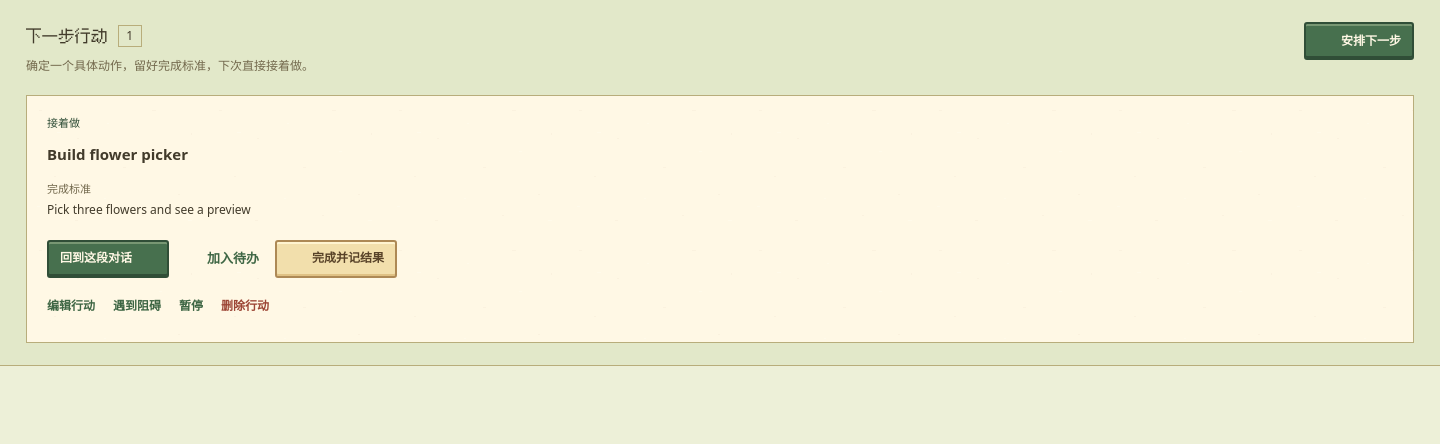
project next actions › adds one linked task, re-reads its ID and routes directly to it
Click the button "加入待办": click(222, 258) top-left (185, 240), bottom-right (259, 277)
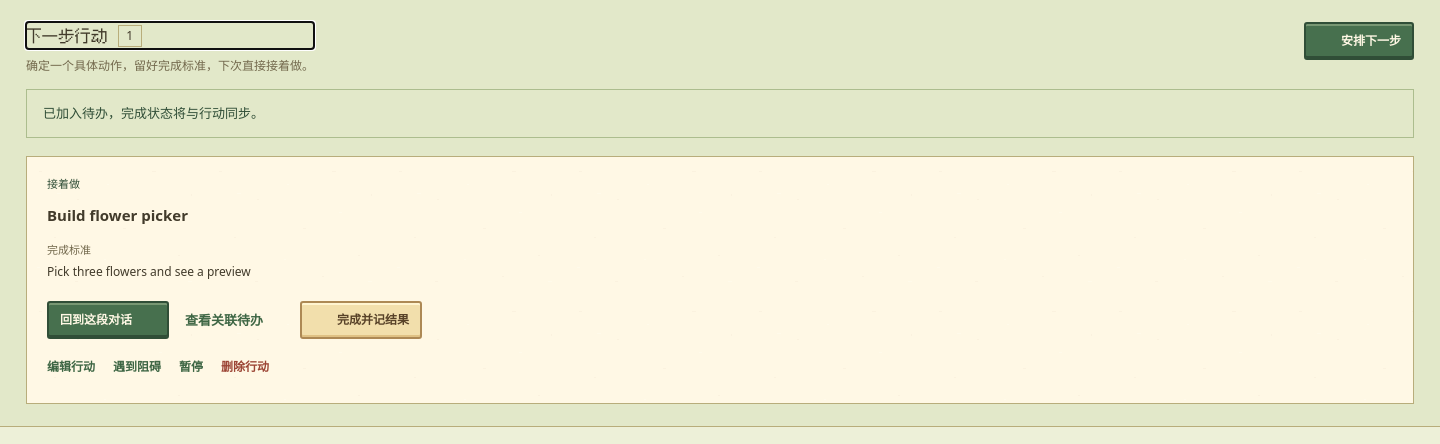
Check: the link to "/todos?task=todo%3Aone" is shown, box top-left (185, 310), bottom-right (263, 328)
Check: the text "完成状态将与行动同步" is shown, box top-left (43, 104), bottom-right (264, 122)
